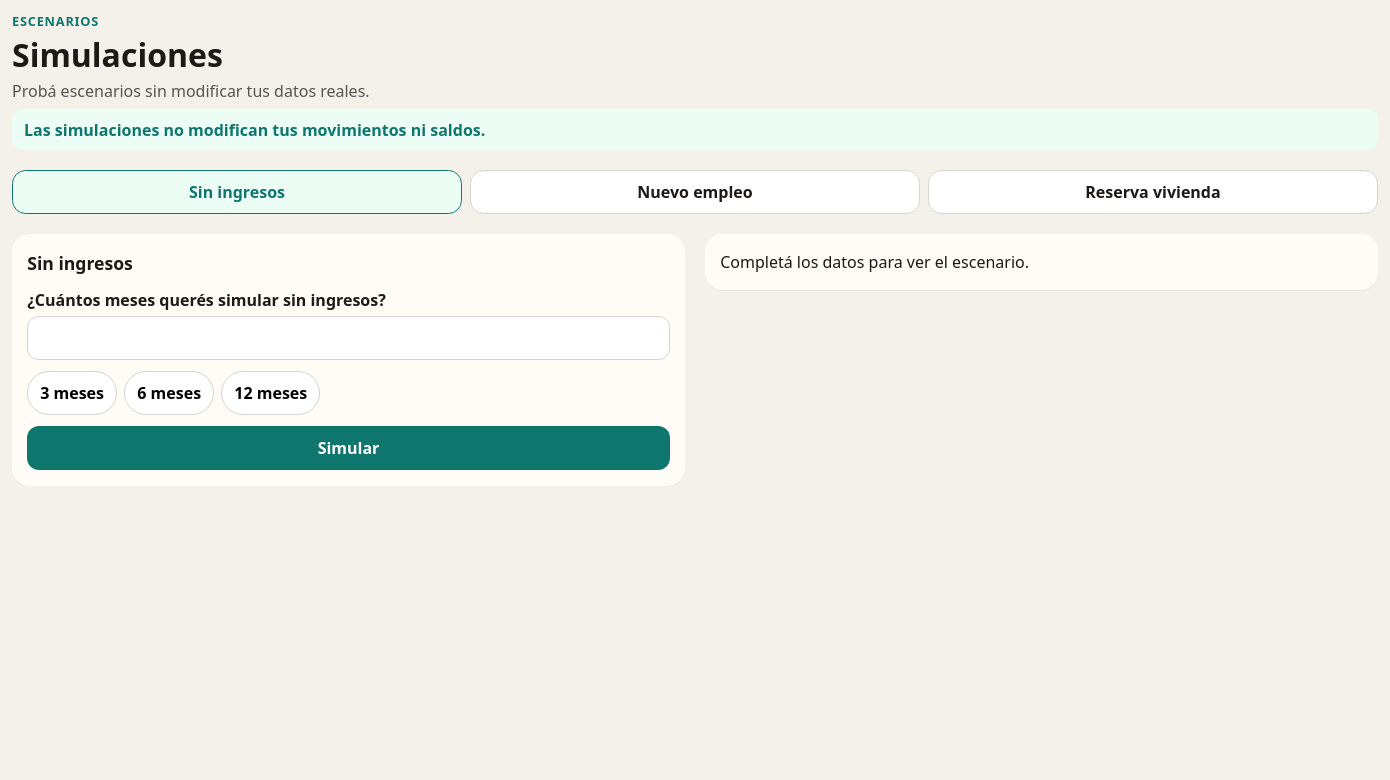
Test case: SimulationsPage › shows the null-baseline copy without substituting zero consumption
This screenshot has width=1390, height=780.
Step 1. Type "6" into the field labelled "¿Cuántos meses querés simular sin ingresos?" → (348, 338), box x1=27 y1=316 x2=670 y2=360
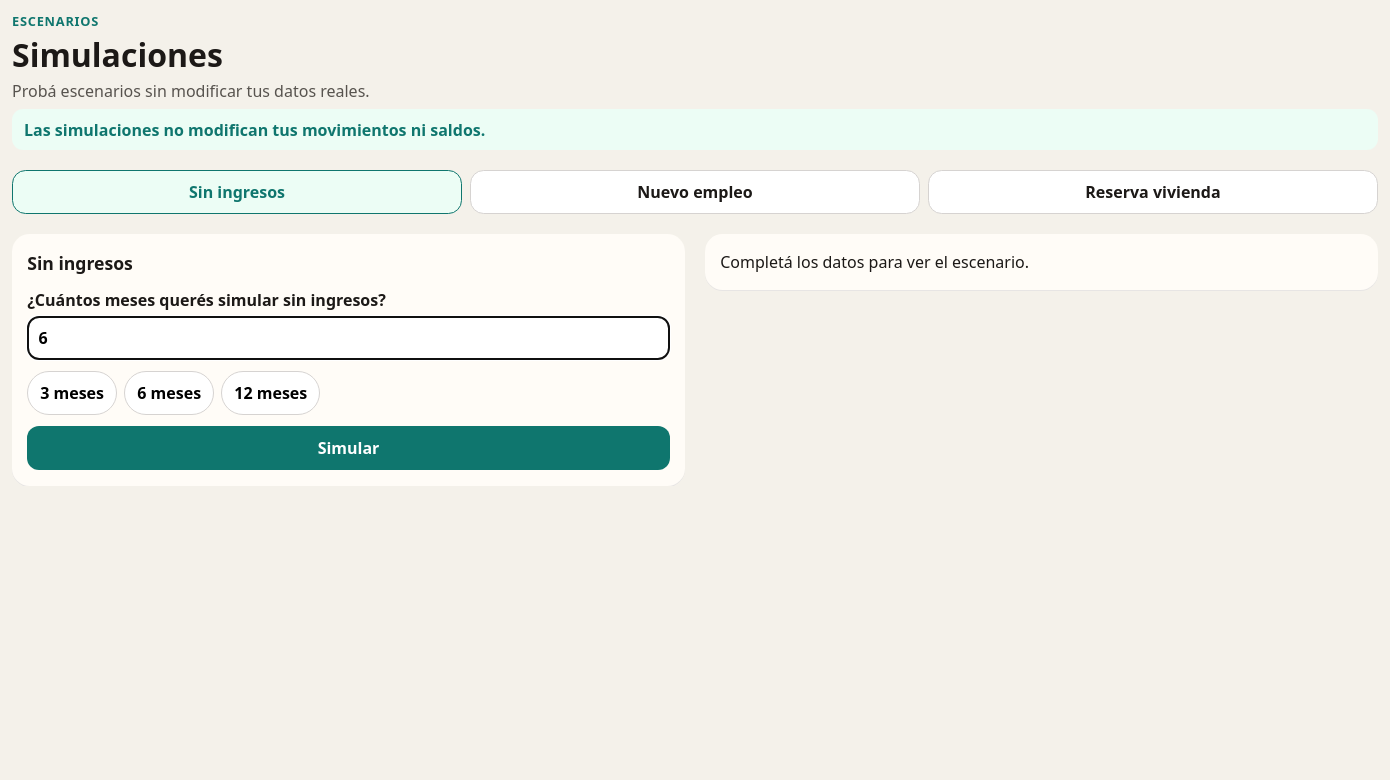
Step 2. Click the button "Simular" → (348, 448), box x1=27 y1=426 x2=670 y2=470
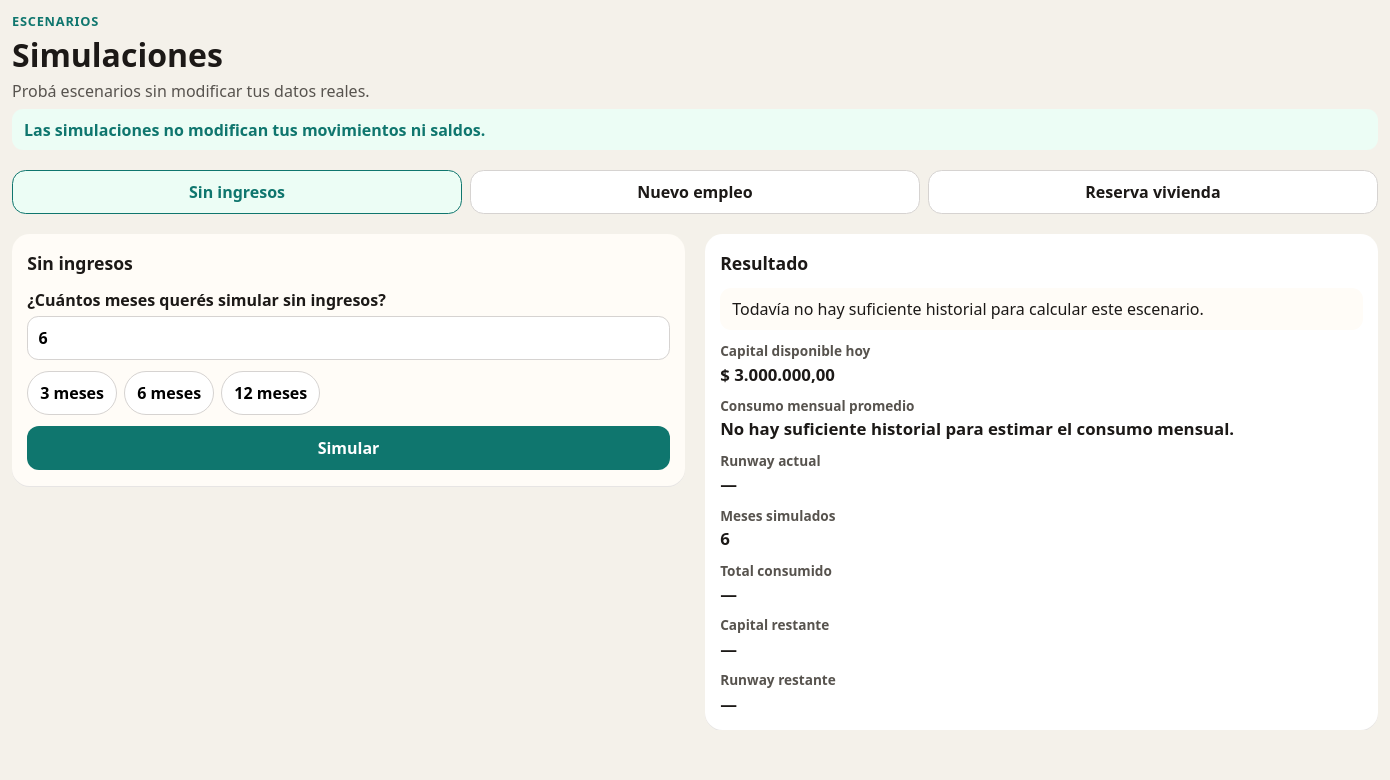
Now the text "Todavía no hay suficiente historial para calcular este escenario." is shown, box x1=720 y1=288 x2=1363 y2=330
Now the text "No hay suficiente historial para estimar el consumo mensual." is shown, box x1=720 y1=418 x2=1234 y2=440
Now the text "$ 3.000.000,00" is shown, box x1=720 y1=362 x2=835 y2=386
